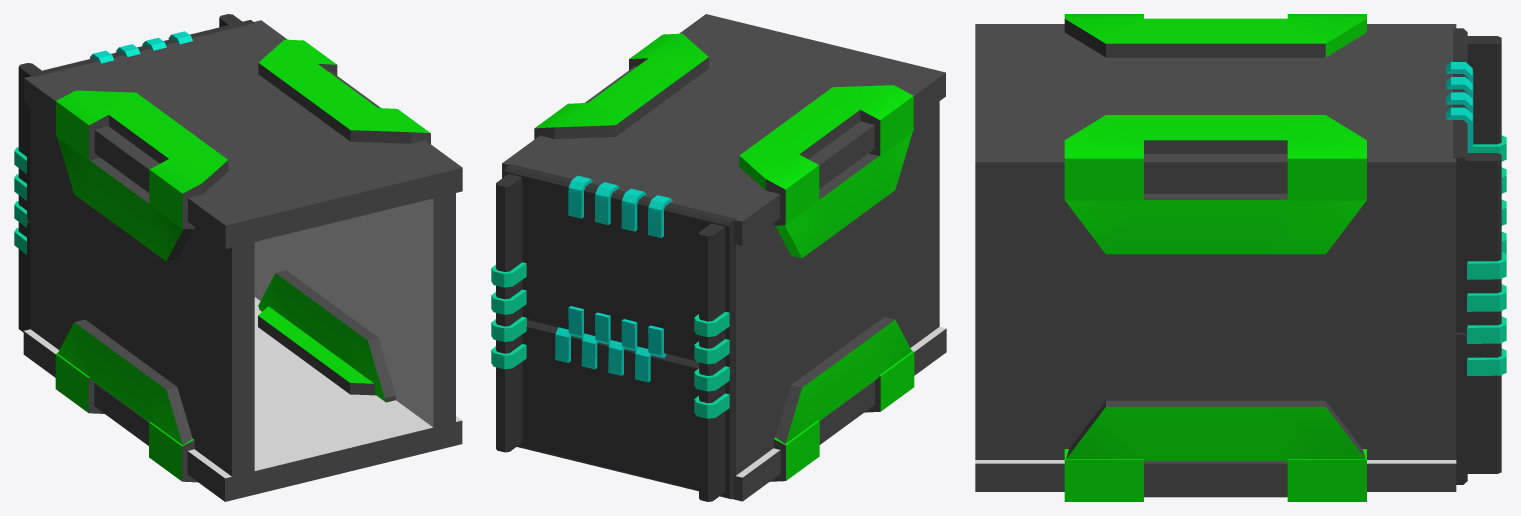
Rendered from spawning_khop.fbx.
3 renders of one model, left to right at view 1: azimuth 30°, elevation 25°; view 2: azimuth 150°, elevation 25°; view 3: azimuth 270°, elevation 25°, orthographic. The views are drawn at different scales.
Visible parts, largest first — view 1: floor2, wall_04, wall_03, floor1, khuti_03, sutter_up1; view 2: floor2, wall_04, sutter_up1, shutter_down1, khuti_03, khuti_04, floor1; view 3: wall_03, floor2, floor1, khuti_04, sutter_up1, khuti_03, shutter_down1.
Boxes of the visible parts, x1=… form: floor2: x1=24, y1=20, x2=462, y2=248; wall_04: x1=30, y1=106, x2=254, y2=486; wall_03: x1=254, y1=184, x2=455, y2=437; floor1: x1=23, y1=297, x2=462, y2=501; khuti_03: x1=14, y1=63, x2=41, y2=332; sutter_up1: x1=27, y1=20, x2=254, y2=220; floor2: x1=502, y1=14, x2=945, y2=245; wall_04: x1=733, y1=101, x2=939, y2=486; sutter_up1: x1=505, y1=164, x2=735, y2=370; shutter_down1: x1=517, y1=320, x2=734, y2=499; khuti_03: x1=694, y1=223, x2=729, y2=501; khuti_04: x1=491, y1=174, x2=526, y2=452; floor1: x1=732, y1=326, x2=946, y2=501; wall_03: x1=975, y1=190, x2=1456, y2=460; floor2: x1=975, y1=14, x2=1456, y2=200; floor1: x1=975, y1=449, x2=1456, y2=501; khuti_04: x1=1464, y1=153, x2=1506, y2=473; sutter_up1: x1=1446, y1=28, x2=1473, y2=332; khuti_03: x1=1467, y1=36, x2=1506, y2=253; shutter_down1: x1=1456, y1=332, x2=1467, y2=484.
Bounding box in the file's own units: 4.98 × 5.73 × 7.72.
